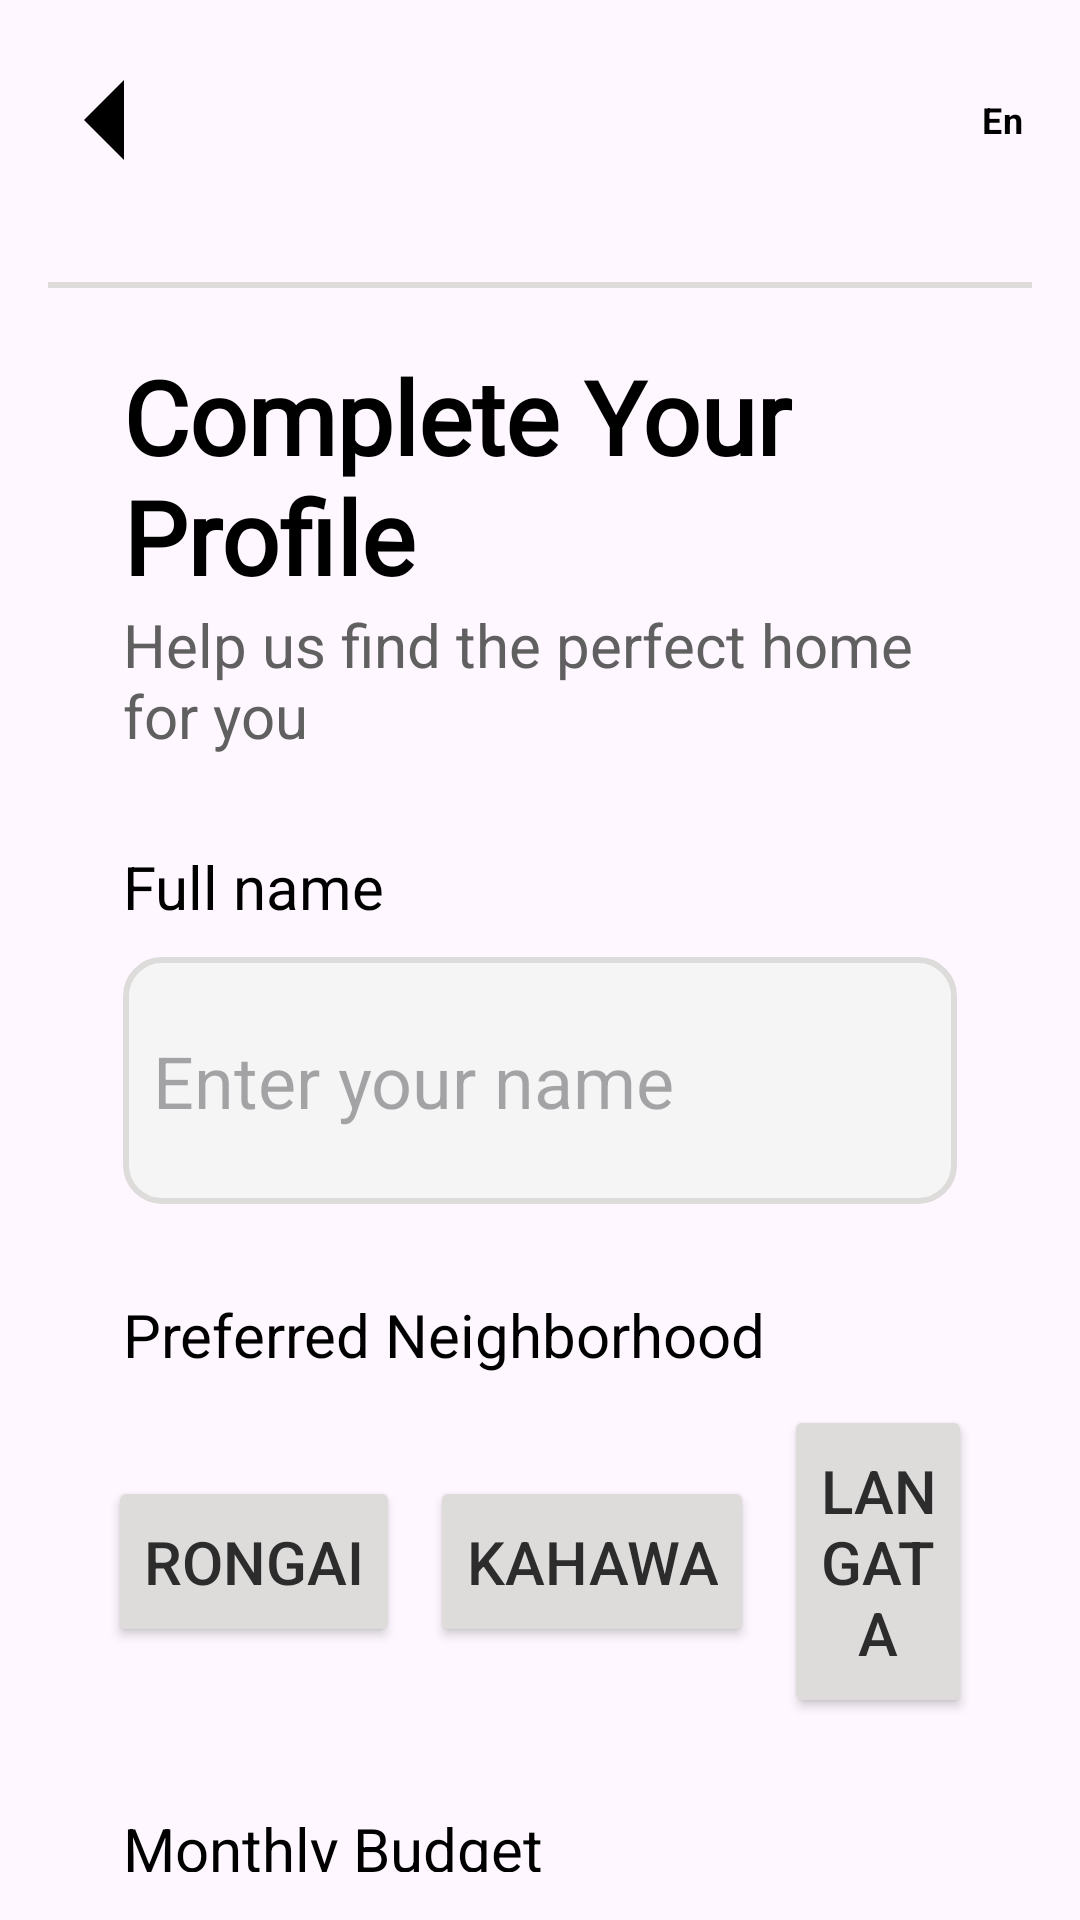

Named icons in this screenshot (1080*1920) and their bounding boxes, bbox(x1, y1, x2, y2):
arrow left: bbox(84, 80, 124, 160)
